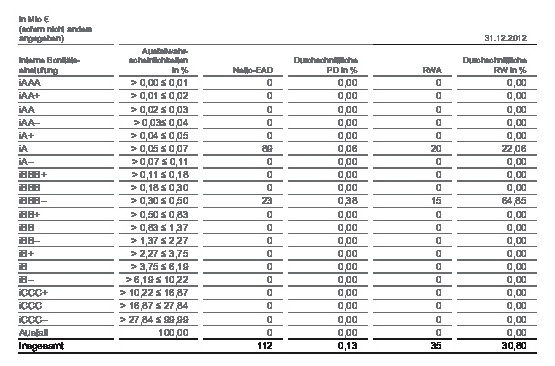table: (0, 0, 555, 366)
